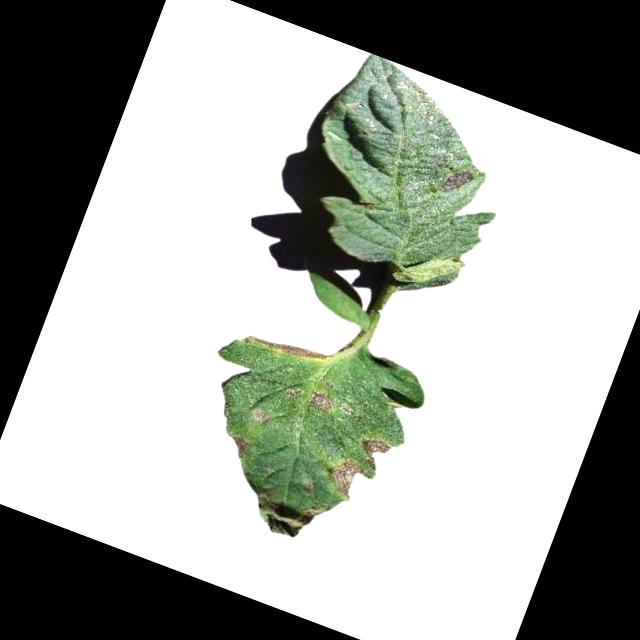Early_blight: (245, 485, 321, 546), (251, 325, 333, 369), (319, 452, 368, 502), (355, 431, 394, 472), (440, 162, 477, 200), (225, 432, 252, 460), (307, 388, 334, 412)
